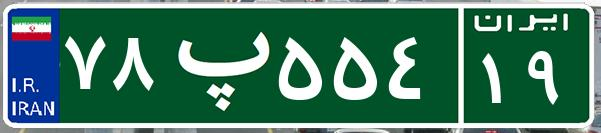1: (475, 38, 525, 113)
4: (385, 28, 445, 110)
5: (273, 28, 330, 110), (330, 28, 385, 110)
7: (57, 26, 110, 107)
8: (110, 28, 158, 105)
9: (525, 38, 570, 115)
پ: (158, 15, 273, 115)
